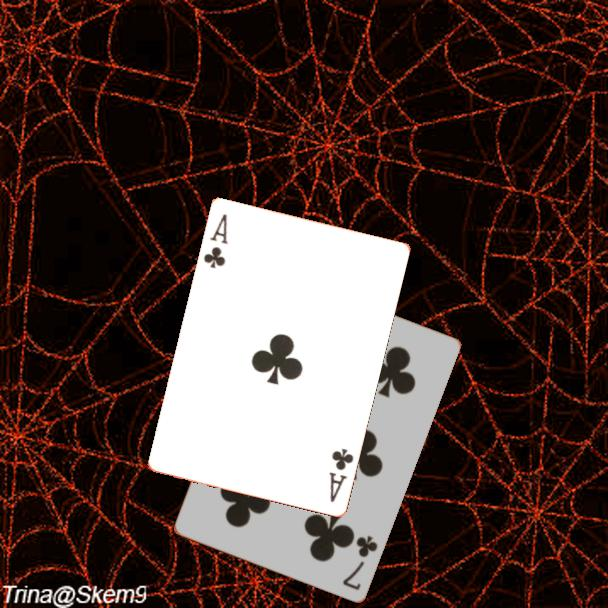c01: (325, 444, 356, 505), (200, 210, 230, 271)
c07: (339, 532, 380, 593)
